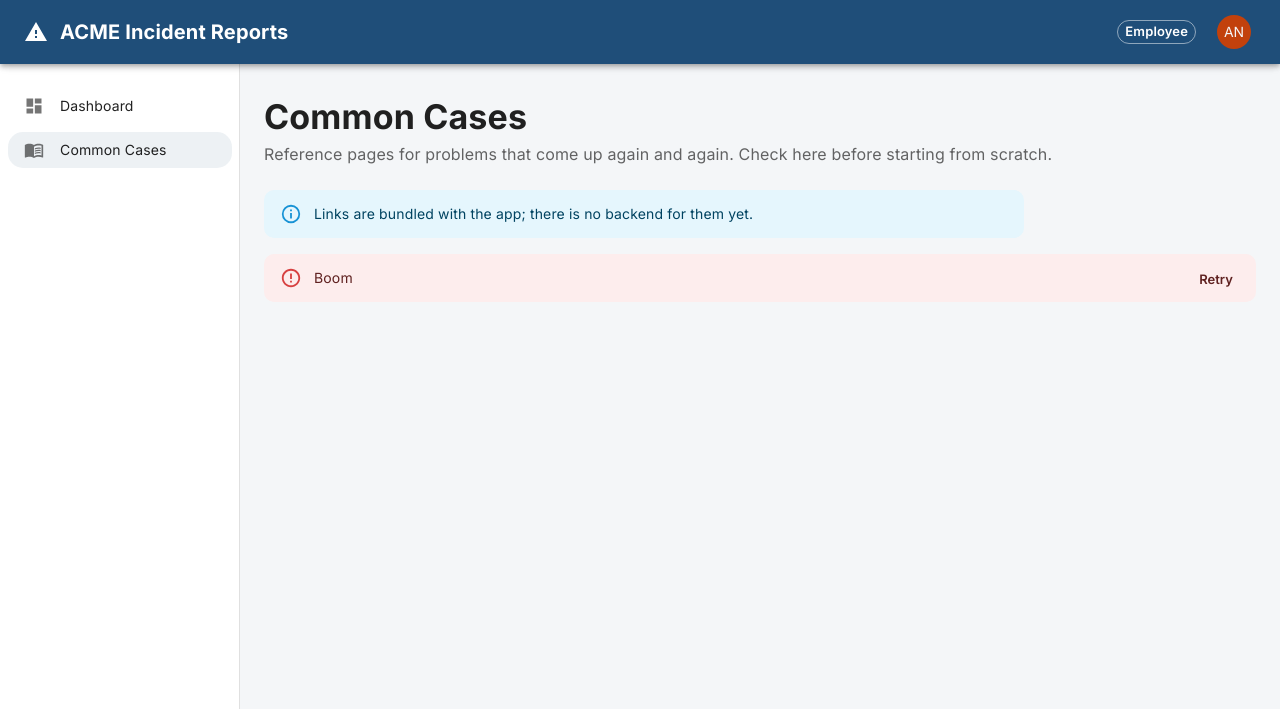
Test: CommonCasesPage › shows a failure with Retry, which loads the cases
expect the heading "Common Cases" is shown: met, box [264,96,527,137]
expect the text "Boom" is shown: met, box [314,269,353,286]
Click the button "Retry".
click(1216, 279)  # box [1184,264,1248,295]
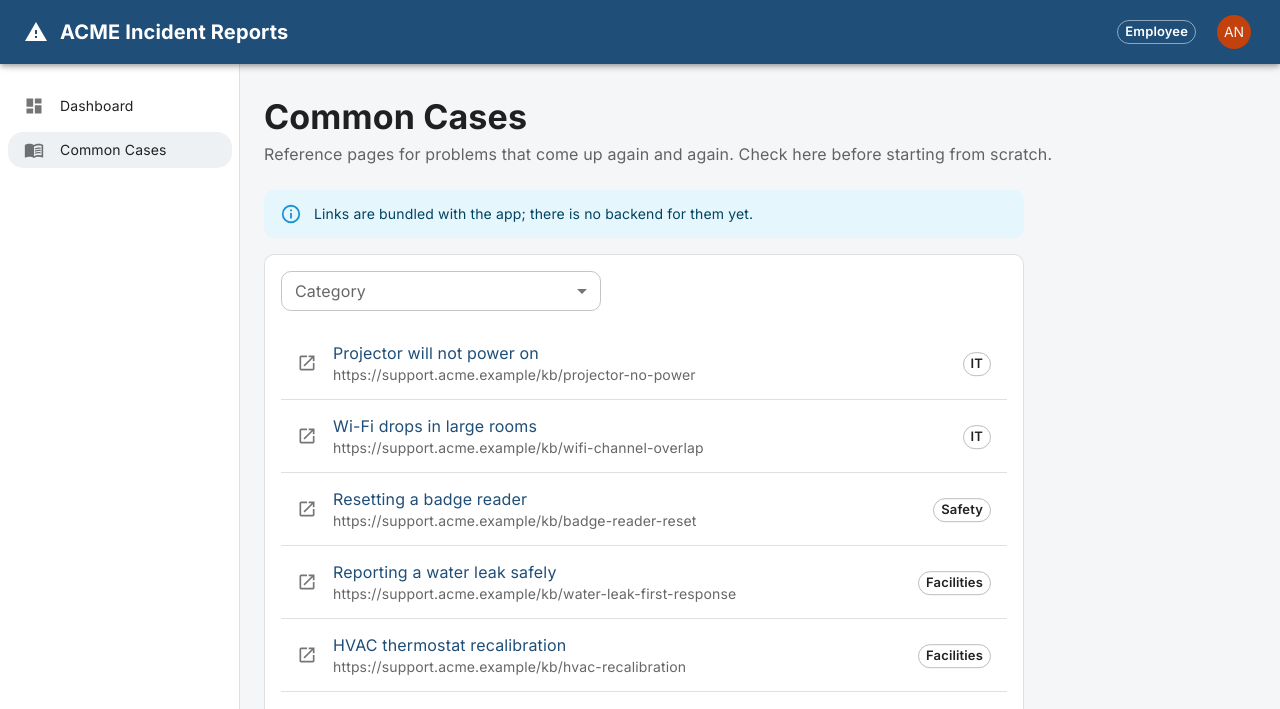
expect the link "Projector will not power on" is shown: met, box [333,343,539,363]
expect the text "Boom" is gone: met
